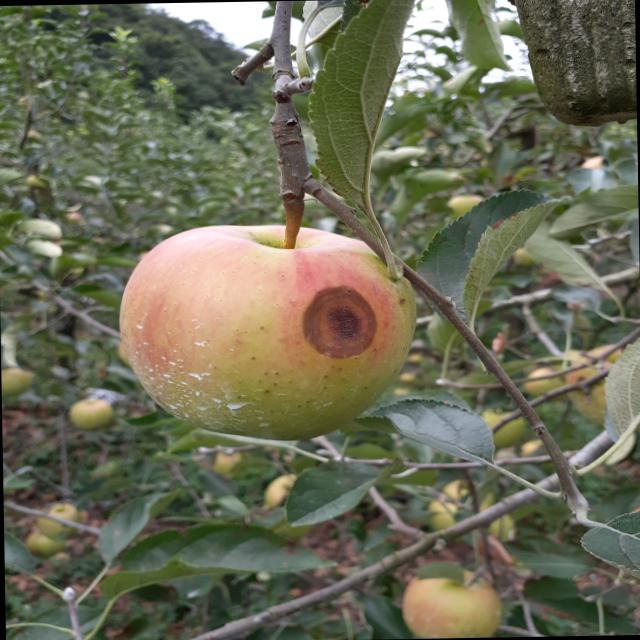rotten: (113, 220, 417, 448)
